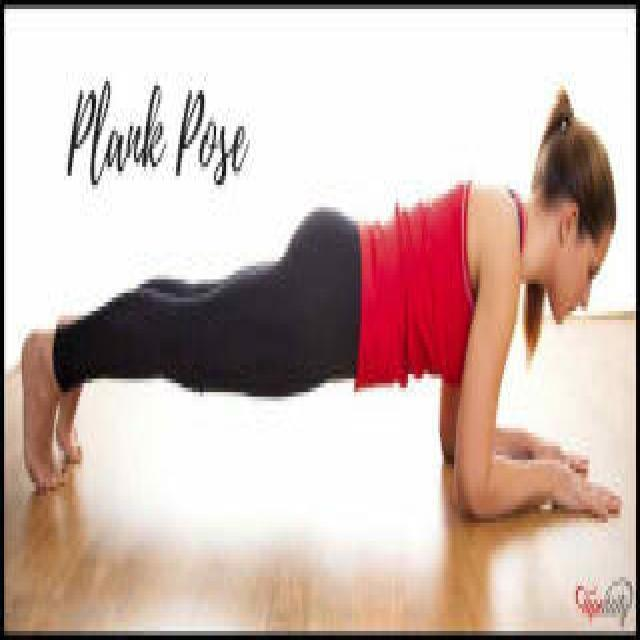yoga-pose plank: (19, 152, 624, 530)
